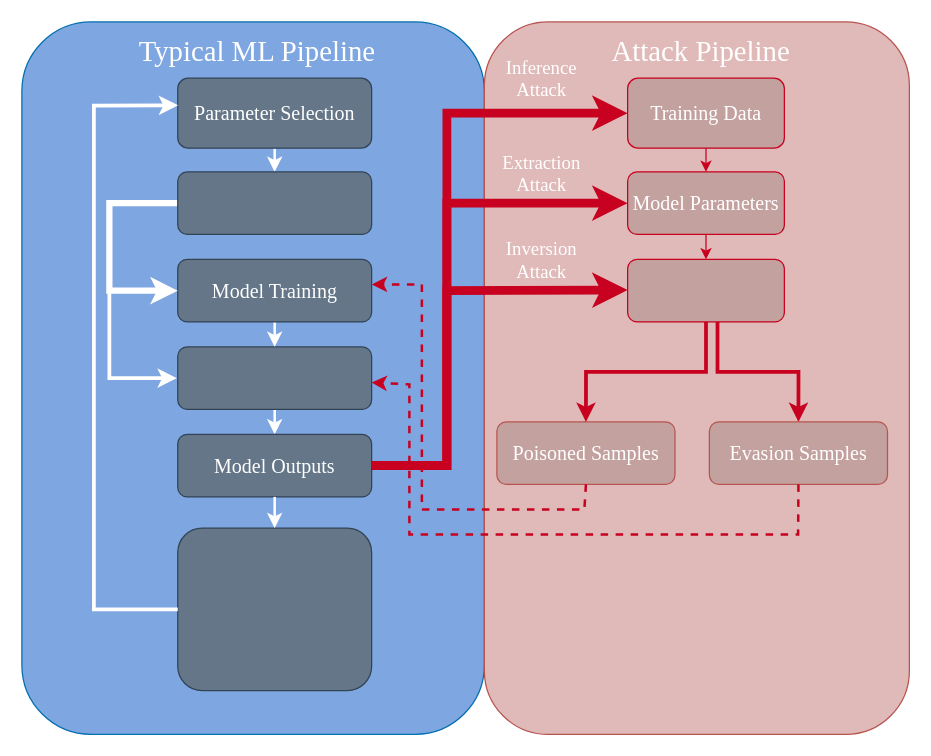
The diagram is 931 pixels wide and 756 high, and some of its shapes have lost their labels. Here are the shapes that lost their labels. From the top down, the centre of each, then its label:
At pixel 274 202: "Train/Test Split".
At pixel 705 290: "Decision Function".
At pixel 274 377: "Model Inference".
At pixel 274 609: "Scoring and Optimization".
